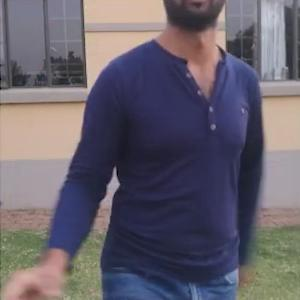follow: (91, 0, 265, 294)
